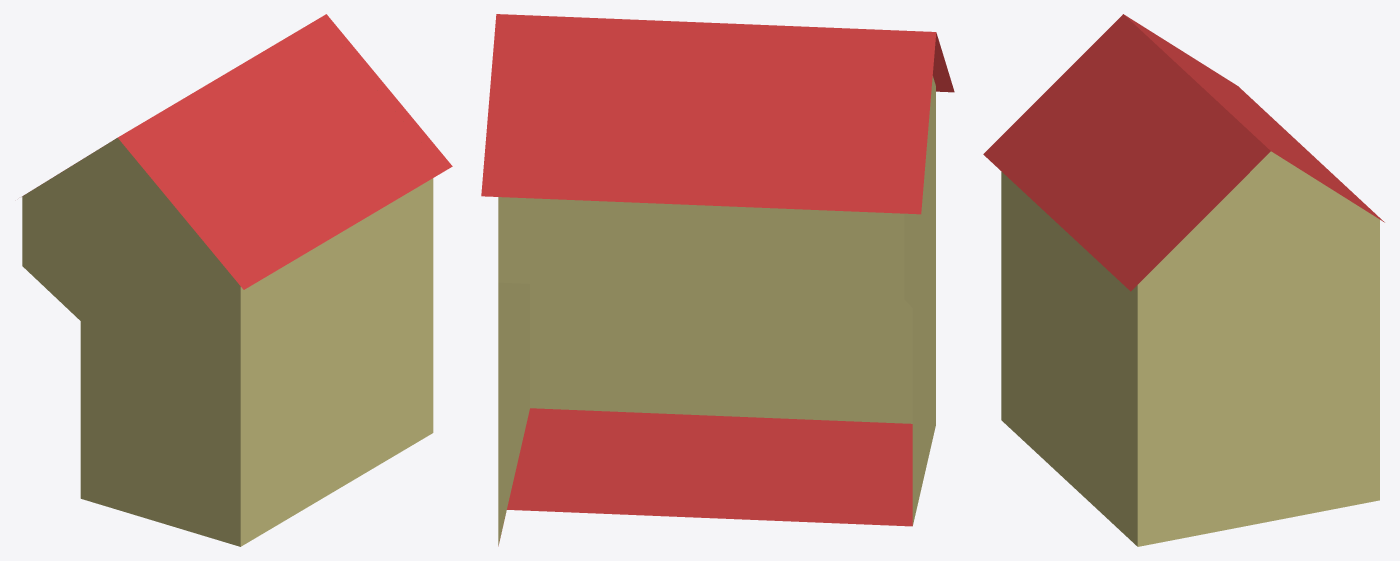
3 renders of one model, left to right at view 1: azimuth 30°, elevation 25°; view 2: azimuth 150°, elevation 25°; view 3: azimuth 270°, elevation 25°, orthographic. The views are drawn at different scales.
Size of the model in its own units: 15.96 by 14.58 by 15.05.
